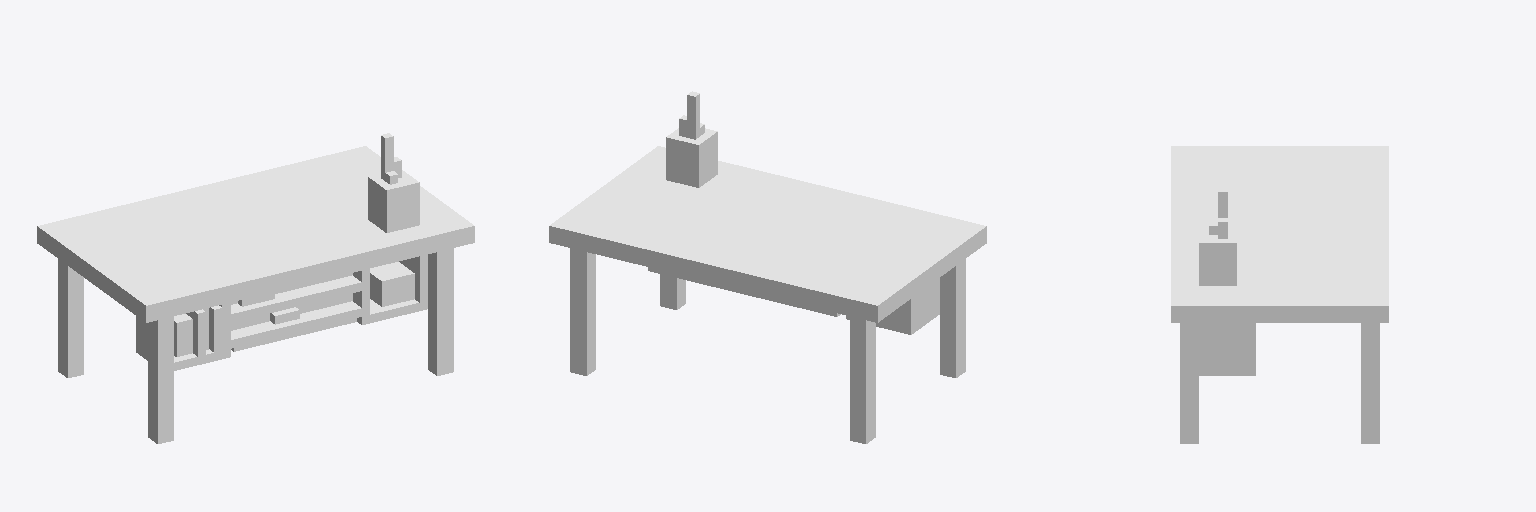
The model's file is teachers-table.obj.
3 renders of one model, left to right at view 1: azimuth 30°, elevation 25°; view 2: azimuth 150°, elevation 25°; view 3: azimuth 270°, elevation 25°, orthographic.
Visible parts, largest first — view 1: object 1; view 2: object 1; view 3: object 1.
Boxes of the visible parts, x1,y1,x2,y2 form: object 1: [37, 133, 474, 443]; object 1: [549, 91, 986, 443]; object 1: [1171, 146, 1388, 443].
Bounding box in the file's own units: 4 × 2.7 × 2.3.